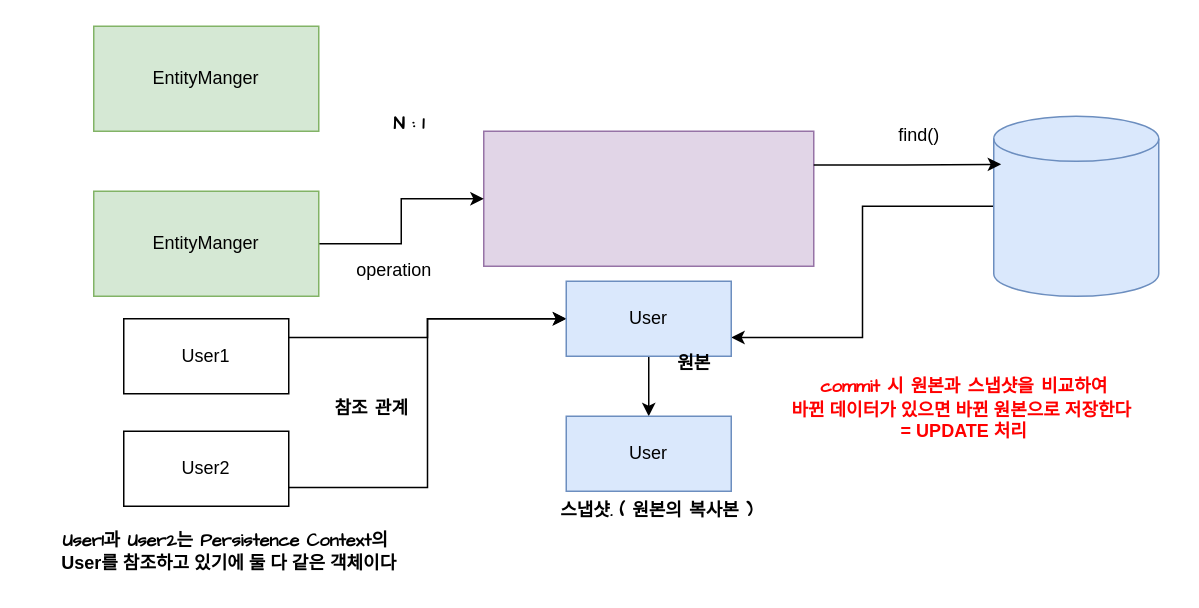
Some shapes in this 1199 by 608 pixel diagram are drawn without their labels. Each missing label, with the centre of its shape:
"MySQL" belongs at point (1075, 205).
"Persistence context" belongs at point (648, 198).
